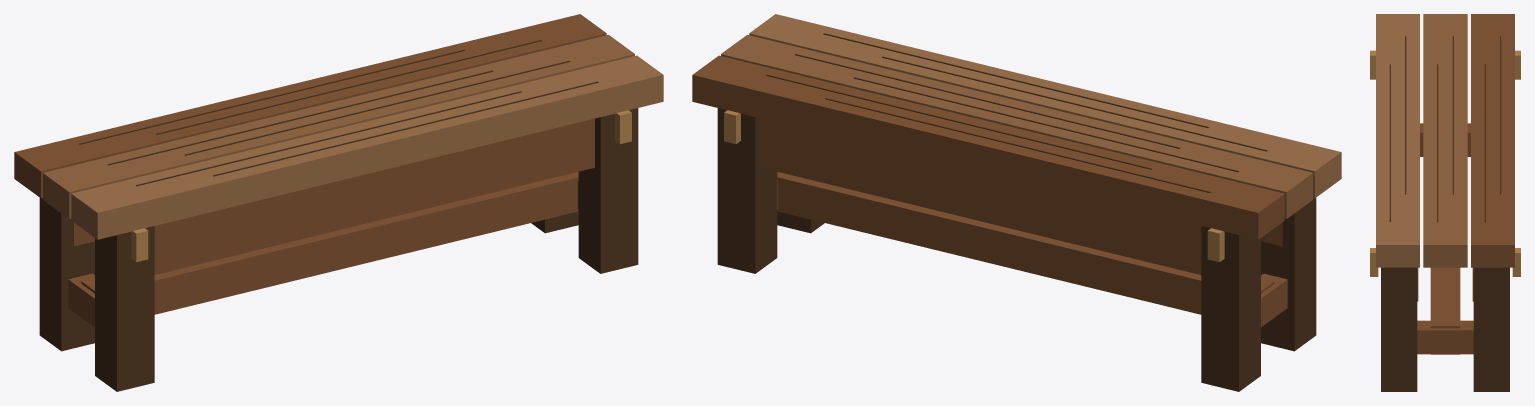
File: LV_GHE_GO_01.glb
3 renders of one model, left to right at view 1: azimuth 30°, elevation 25°; view 2: azimuth 150°, elevation 25°; view 3: azimuth 270°, elevation 25°, orthographic. The views are drawn at different scales.
Visible parts, largest first — view 1: LV_GHE_GO_01-surface-825331, LV_GHE_GO_01-surface-9d7048, LV_GHE_GO_01-surface-50351f, LV_GHE_GO_01-surface-936540, LV_GHE_GO_01-surface-b68850; view 2: LV_GHE_GO_01-surface-825331, LV_GHE_GO_01-surface-50351f, LV_GHE_GO_01-surface-936540, LV_GHE_GO_01-surface-9d7048, LV_GHE_GO_01-surface-b68850; view 3: LV_GHE_GO_01-surface-825331, LV_GHE_GO_01-surface-50351f, LV_GHE_GO_01-surface-936540, LV_GHE_GO_01-surface-9d7048, LV_GHE_GO_01-surface-b68850.
Boxes of the visible parts, x1,y1,x2,y2 form: LV_GHE_GO_01-surface-825331: (14,14,606,327); LV_GHE_GO_01-surface-9d7048: (71,55,663,239); LV_GHE_GO_01-surface-50351f: (39,40,638,391); LV_GHE_GO_01-surface-936540: (43,35,634,218); LV_GHE_GO_01-surface-b68850: (131,110,631,262); LV_GHE_GO_01-surface-825331: (692,55,1287,327); LV_GHE_GO_01-surface-50351f: (717,33,1316,391); LV_GHE_GO_01-surface-936540: (721,35,1312,218); LV_GHE_GO_01-surface-9d7048: (749,14,1341,198); LV_GHE_GO_01-surface-b68850: (724,110,1224,262); LV_GHE_GO_01-surface-825331: (1417,14,1514,354); LV_GHE_GO_01-surface-50351f: (1381,36,1509,391); LV_GHE_GO_01-surface-936540: (1423,14,1467,267); LV_GHE_GO_01-surface-9d7048: (1376,14,1419,267); LV_GHE_GO_01-surface-b68850: (1370,50,1520,276).
Bounding box in the file's own units: 1.65 × 0.522 × 0.455.
